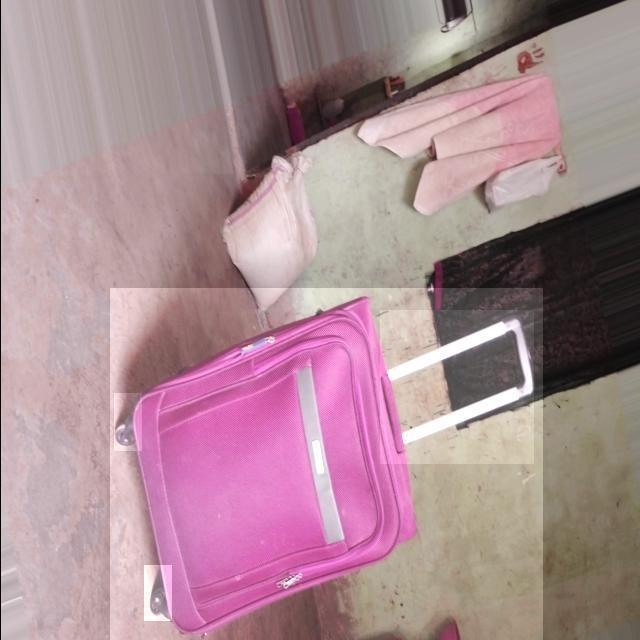Suitcase: (118, 292, 545, 638)
